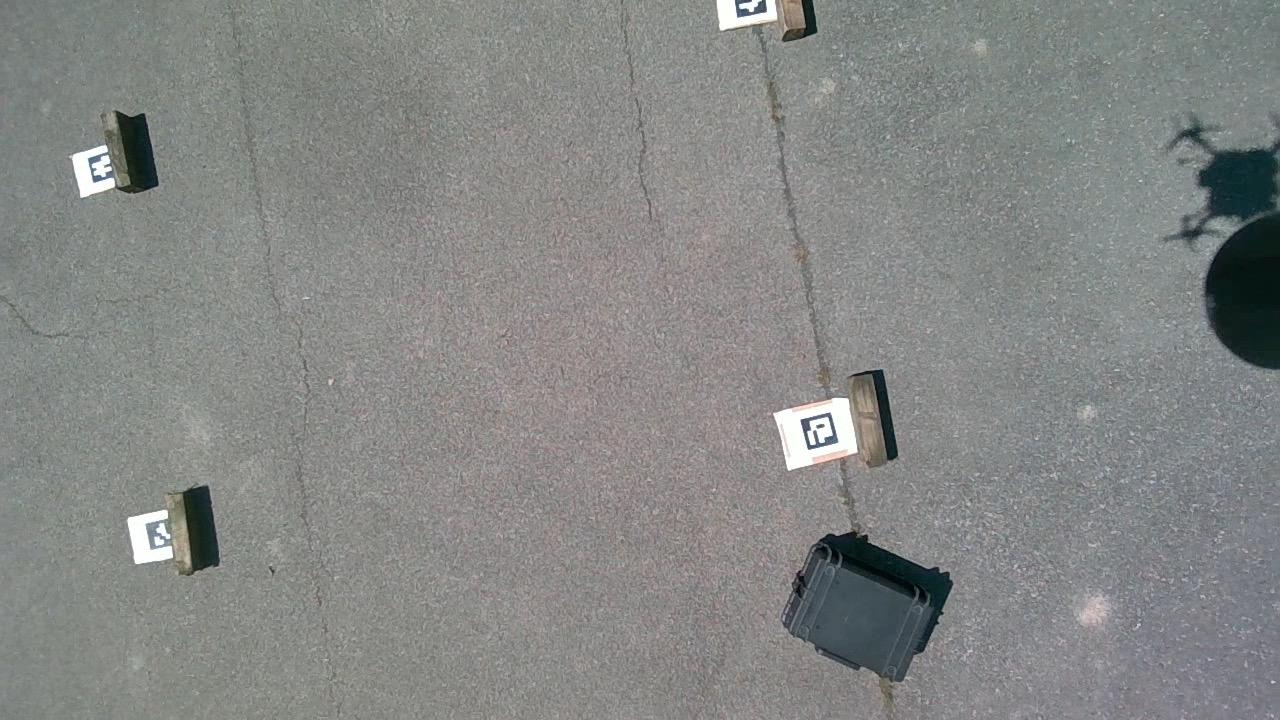rako: (781, 533, 951, 681)
